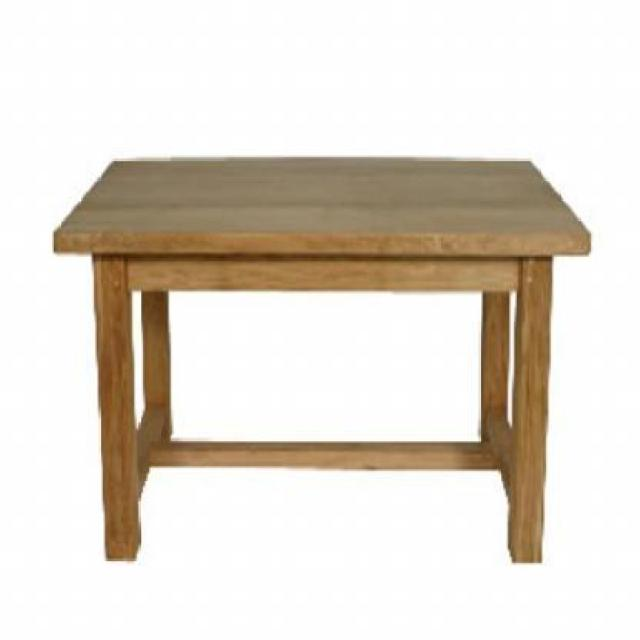tables: (51, 154, 592, 563)
